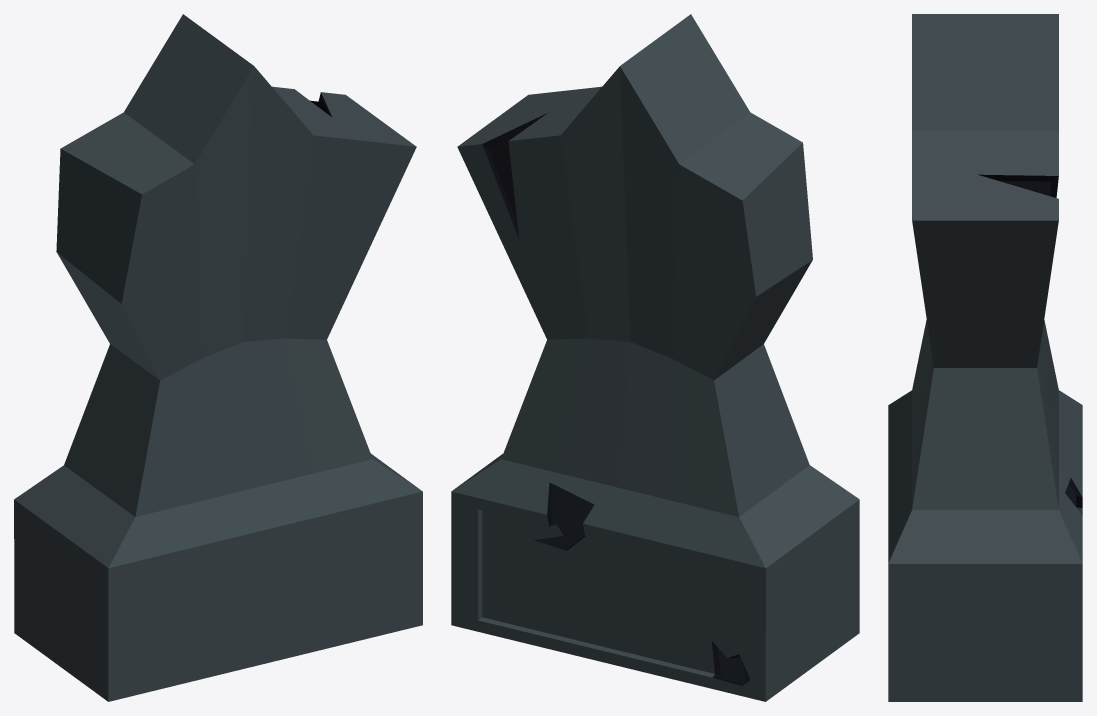
The model's file is Kuburan 2.fbx.
3 views of the same model, side by side, from view 1: azimuth 30°, elevation 25°; view 2: azimuth 150°, elevation 25°; view 3: azimuth 270°, elevation 25° (orthographic). The views are drawn at different scales.
Parts seen in each view (by area): view 1: Cube.015; view 2: Cube.015; view 3: Cube.015.
Boxes of the visible parts, x1,y1,x2,y2 form: Cube.015: (14,14,422,701); Cube.015: (451,14,859,701); Cube.015: (888,14,1082,701).
Size of the model in its own units: 285 by 501 by 145.
